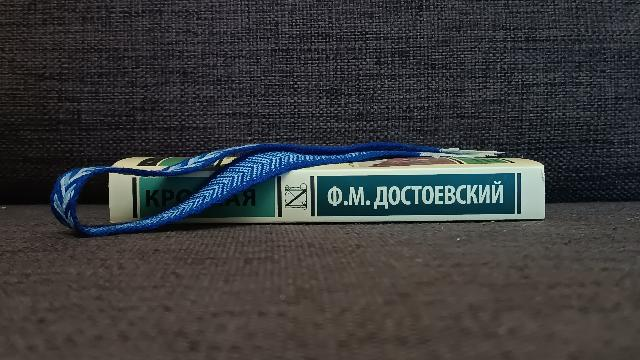book-s-spine: (109, 167, 545, 224)
